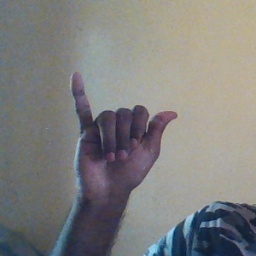J: (68, 71, 182, 192)
